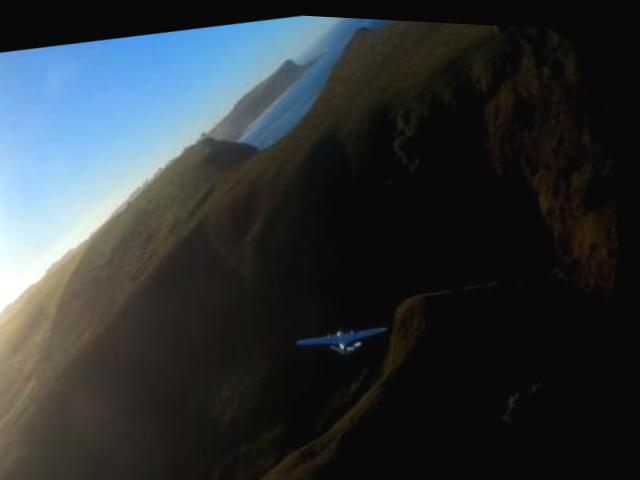uav: (301, 311, 401, 362)
